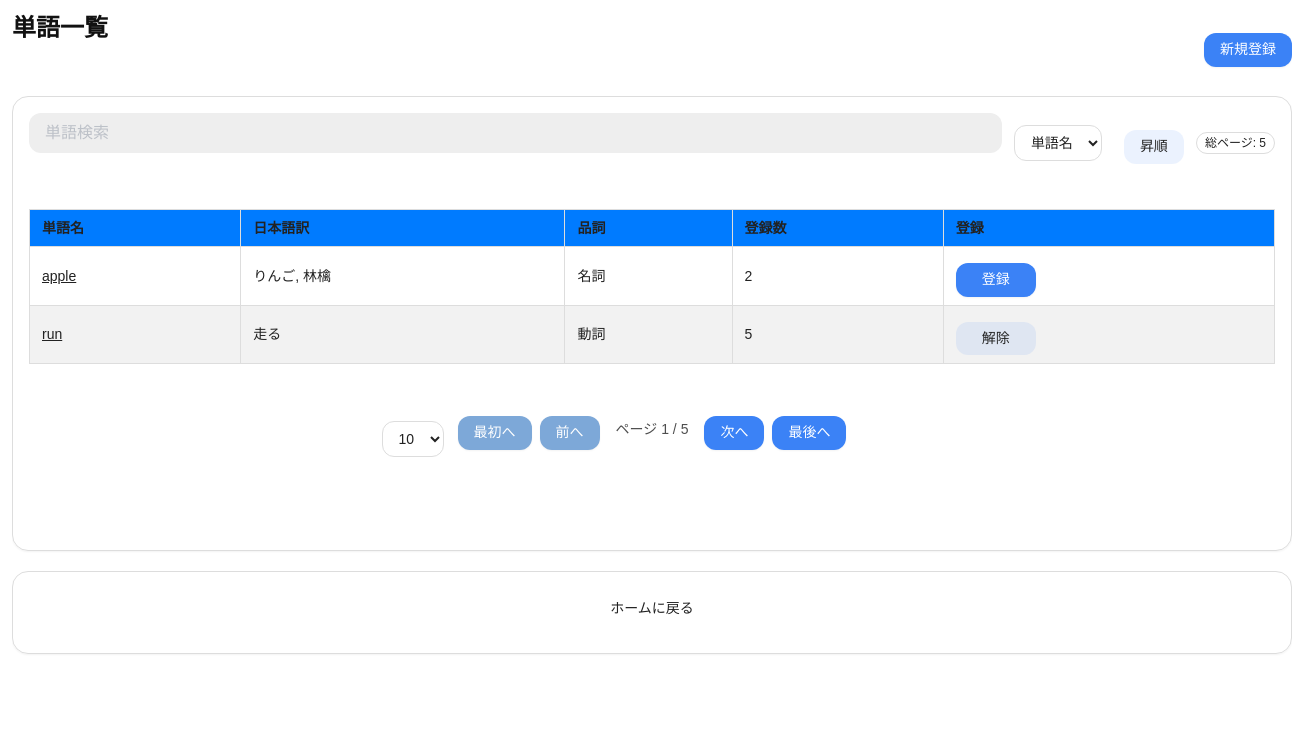
Test: WordList › (5) 昇順/降順ボタンで order がトグルし再取得
Check: the heading "単語一覧" is shown, box [12,12,108,44]
Click the button "昇順". click: (1154, 147)
box: [1124,130,1184,164]
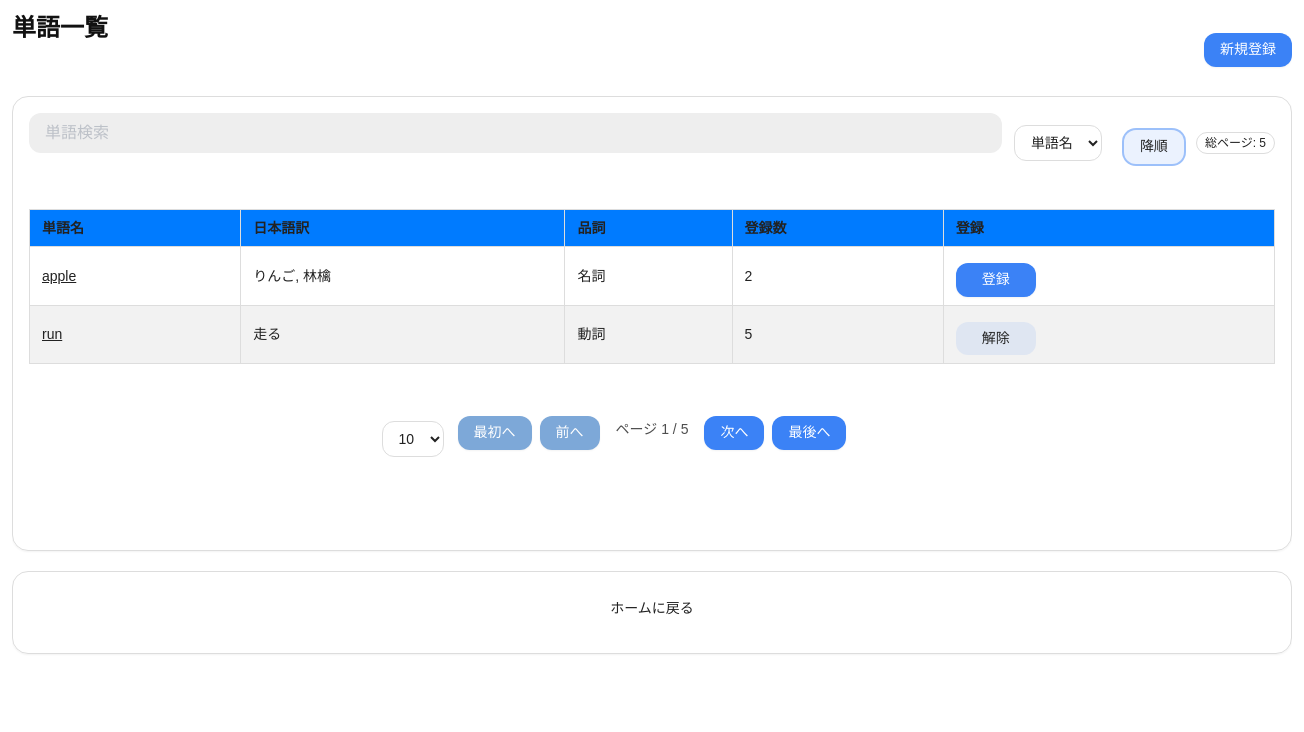
Check: the button "降順" is shown, box [1124,130,1184,164]
